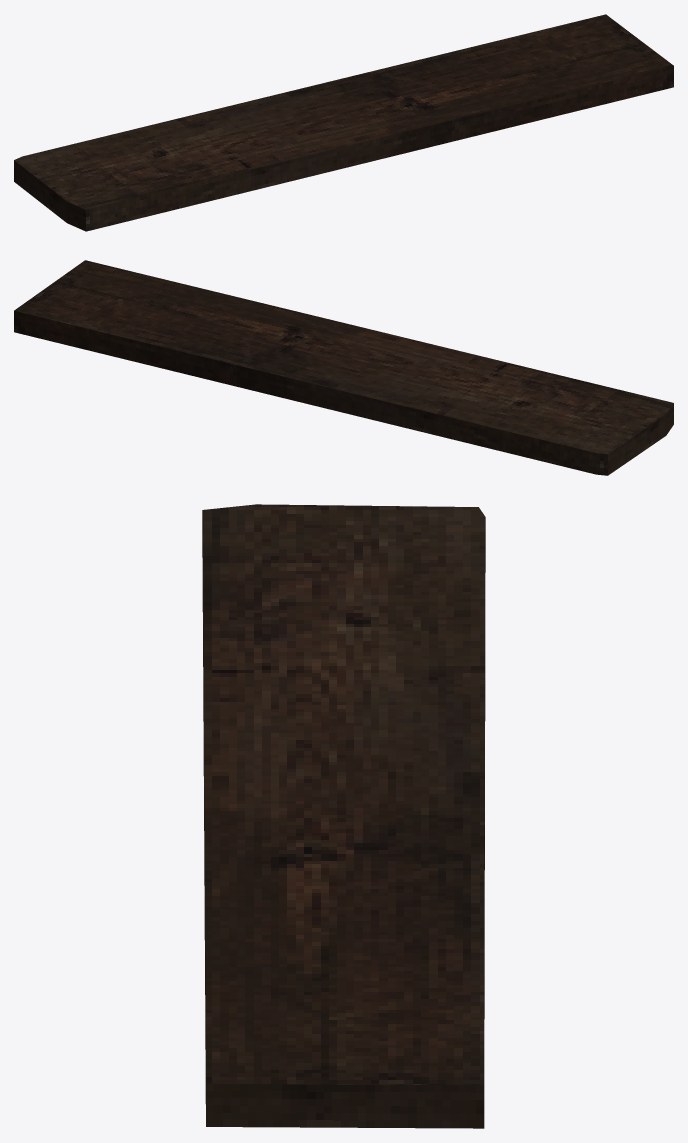
Rendered from wooden_plank_4.glb.
The picture shows the model from 3 angles, top to bottom: view 1: azimuth 30°, elevation 25°; view 2: azimuth 150°, elevation 25°; view 3: azimuth 270°, elevation 25°; orthographic projection. The views are drawn at different scales.
Parts seen in each view (by area): view 1: wooden_plank_4; view 2: wooden_plank_4; view 3: wooden_plank_4.
Boxes of the visible parts, x1,y1,x2,y2 form: wooden_plank_4: (14,14,673,231); wooden_plank_4: (14,260,673,475); wooden_plank_4: (202,504,485,1128).
Bounding box in the file's own units: 0.8656 × 0.03 × 0.1782.
1 material, 1 textured.
